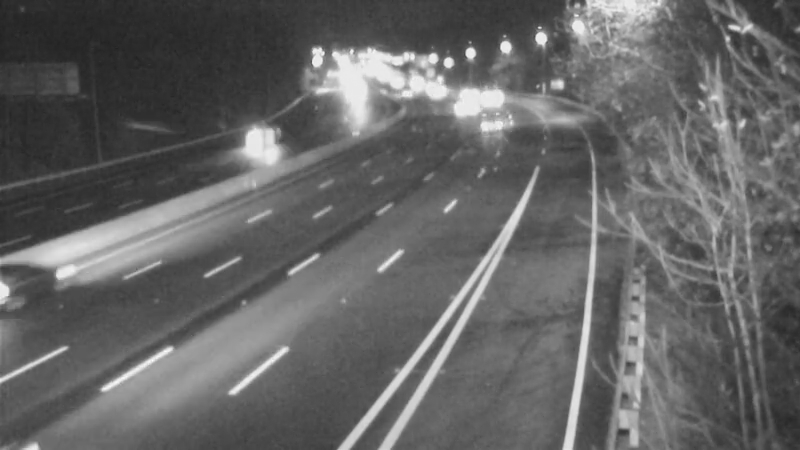vehicle: (1, 246, 70, 326), (381, 68, 431, 118), (443, 70, 493, 120), (463, 74, 513, 124), (434, 84, 484, 134), (467, 97, 517, 147), (235, 109, 285, 159)
